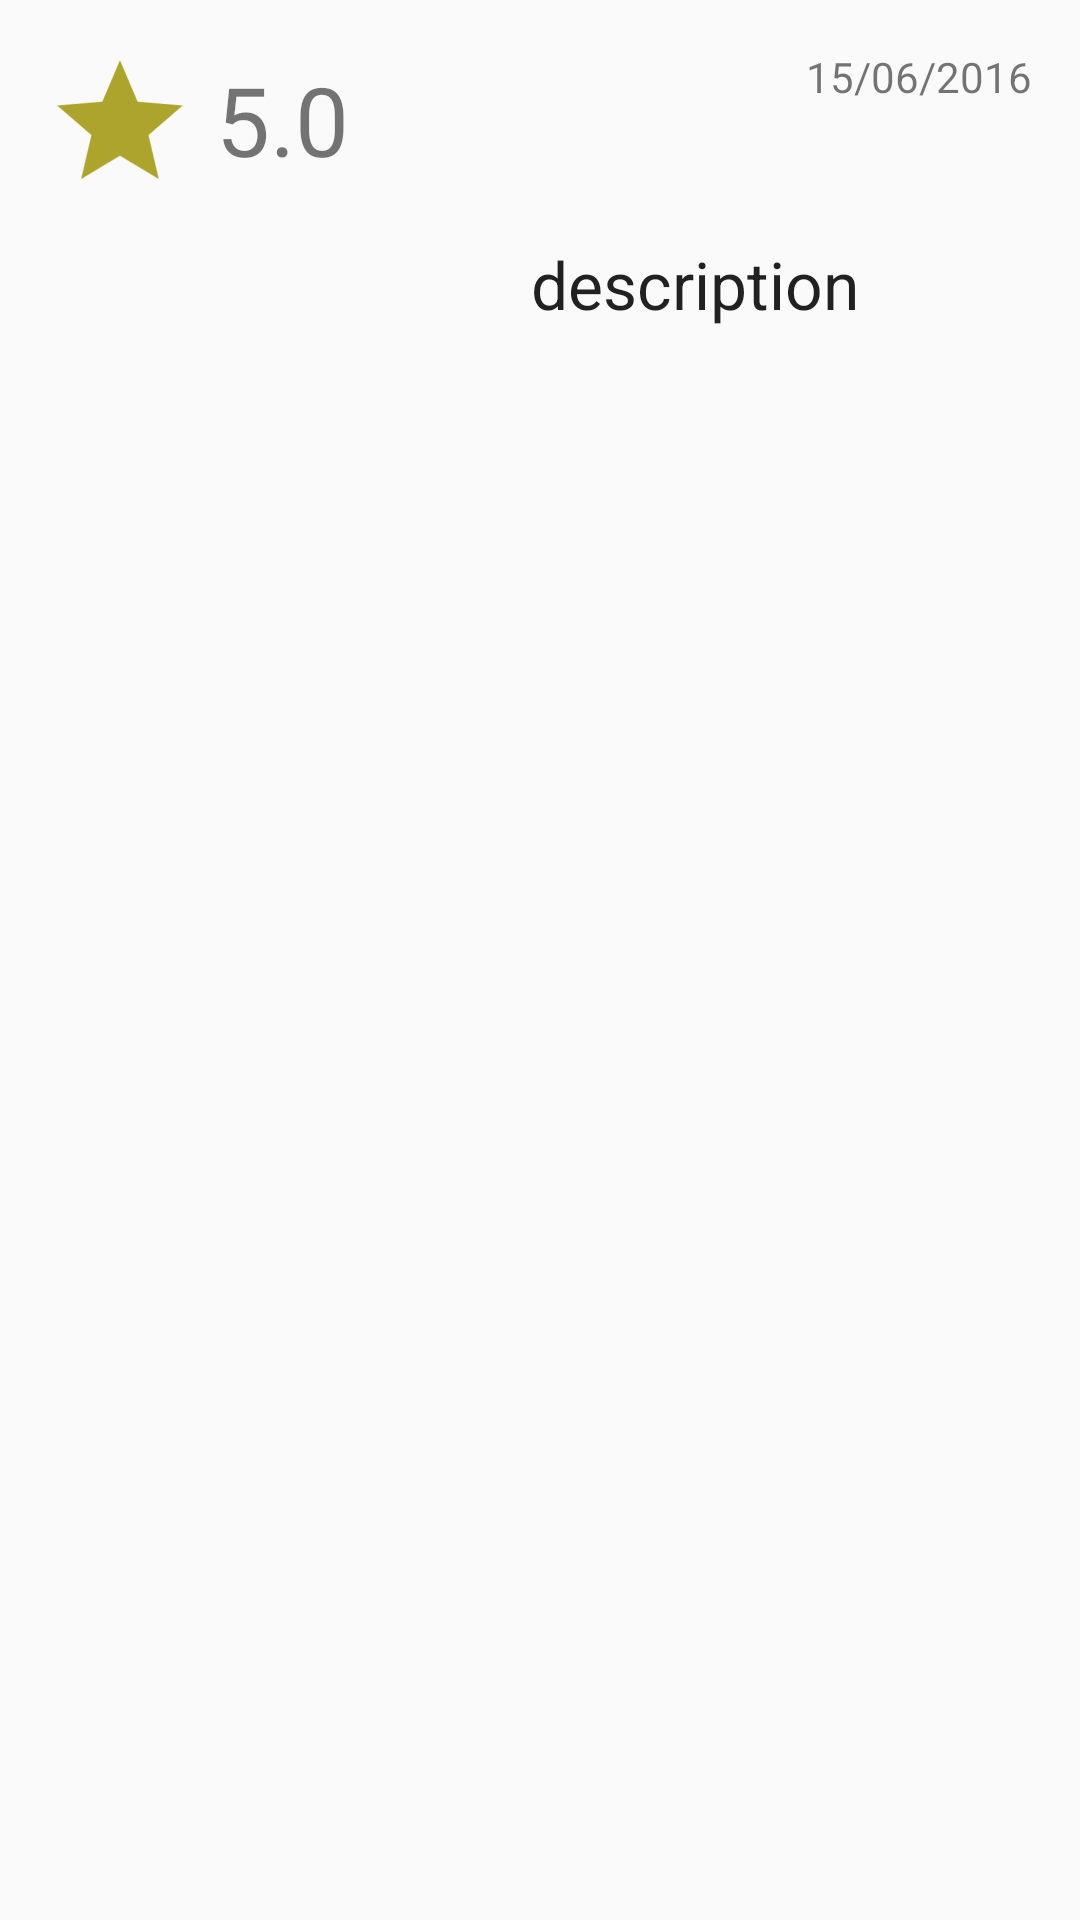

Icons on this 1080w x 1920h Android screen, each with its box as (x1, y1, x2, y2):
star: (57, 60, 183, 179)
